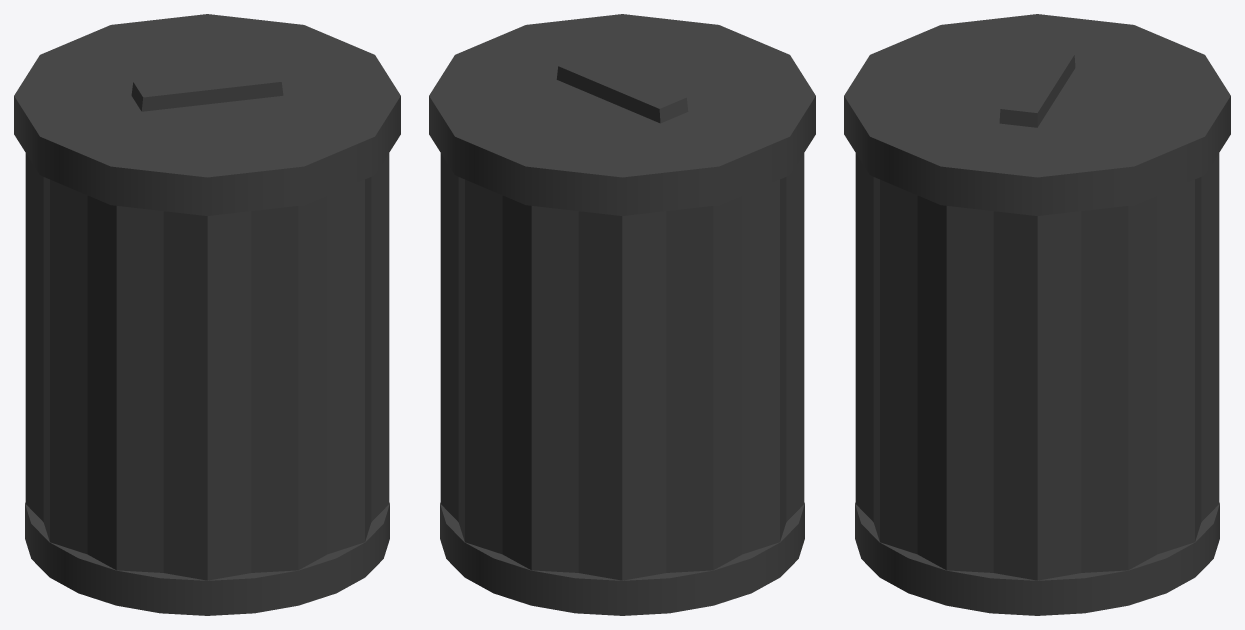
The model's file is trashCan_01.fbx.
3 views of the same model, side by side, from view 1: azimuth 30°, elevation 25°; view 2: azimuth 150°, elevation 25°; view 3: azimuth 270°, elevation 25° (orthographic).
Parts seen in each view (by area): view 1: trashCan_01; view 2: trashCan_01; view 3: trashCan_01.
Part boxes in pixels (x1,y1,x2,y2): trashCan_01: [14, 14, 400, 615]; trashCan_01: [429, 14, 815, 615]; trashCan_01: [844, 14, 1230, 615].
Size of the model in its own units: 81.28 by 106 by 81.28.
